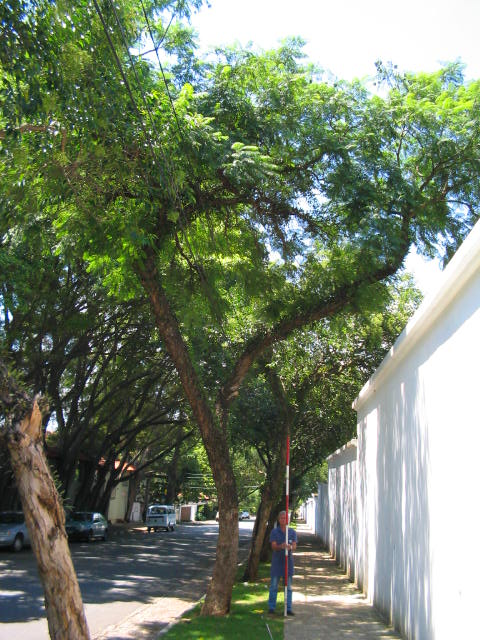crown: (13, 43, 479, 321)
stem: (2, 374, 113, 638), (176, 429, 257, 615)
stick: (277, 436, 295, 617)
tree: (10, 42, 480, 615)
